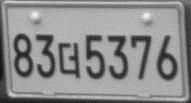3: (35, 33, 56, 78), (107, 34, 128, 79)
5: (84, 33, 105, 79)
6: (156, 33, 178, 80)
7: (129, 33, 152, 79)
8: (12, 33, 34, 78)
더: (57, 41, 82, 79)
